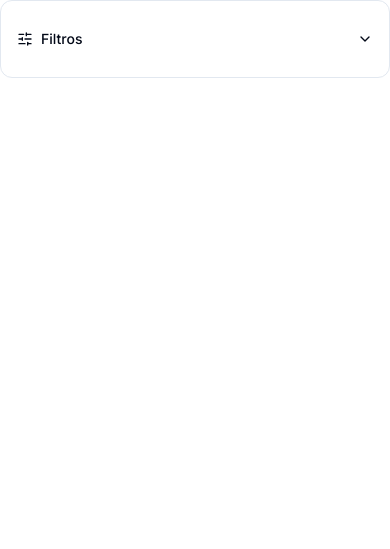
Test: PainelFiltros - painel recolhivel (mobile) › expande e recolhe ao clicar no cabecalho, preservando os campos
Click the button "Filtros" at point(62, 38), box [17,17,373,61]
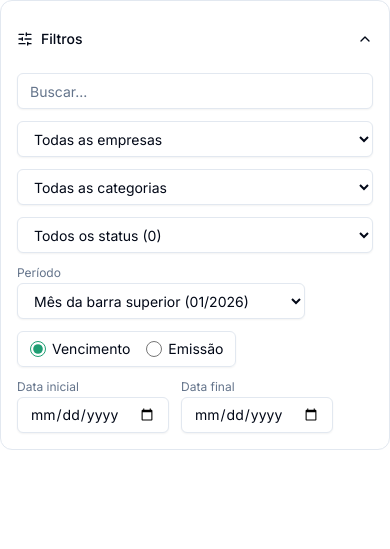
Result: the button "Filtros" is expanded at [17,17,373,61]
Type "energia" into the field with placeholder "Buscar..." at point(195, 91), box [17,73,373,109]
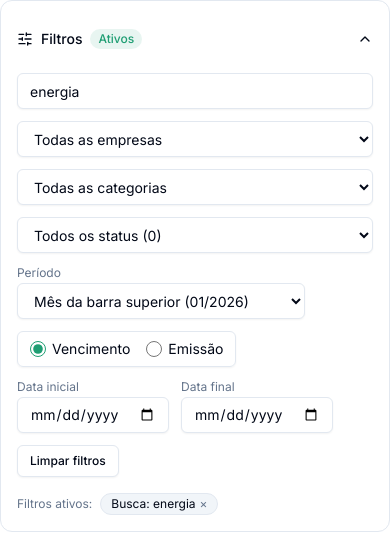
Click the button "Filtros Ativos" at point(62, 38), box [17,17,373,61]
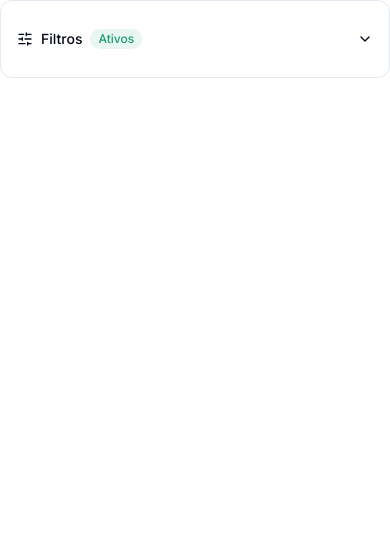
Expected: the element with placeholder "Buscar..." holds "energia", [0,0,389,78]
Result: the button "Filtros Ativos" is collapsed at [17,17,373,61]
